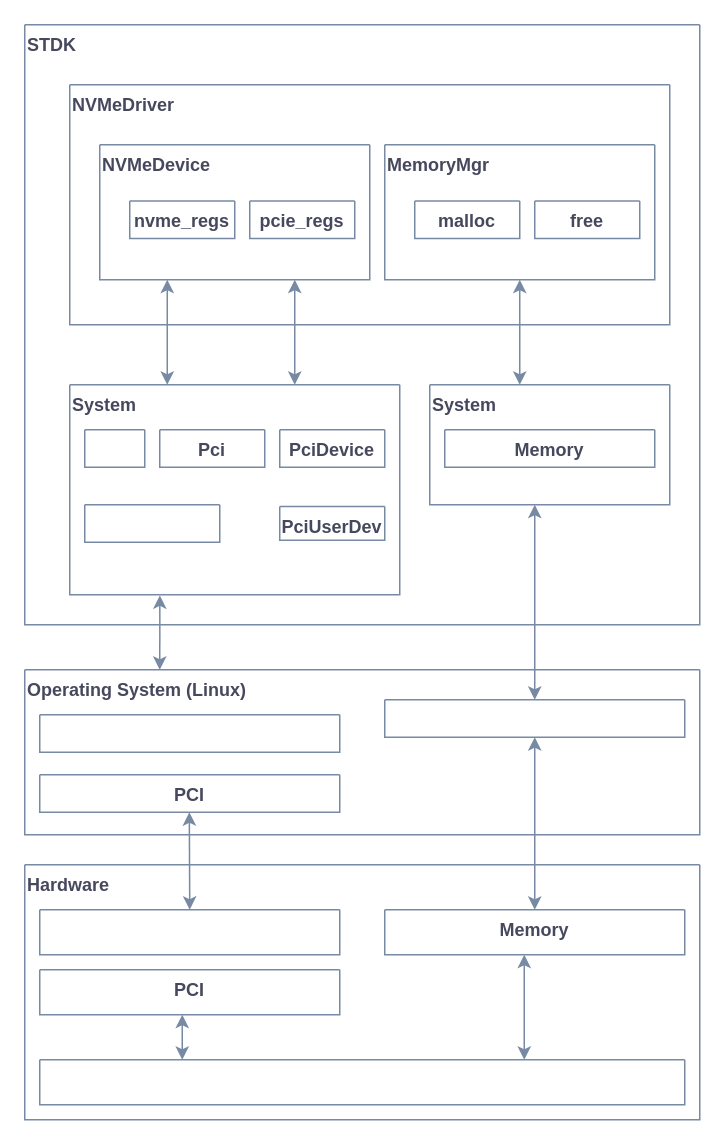
This 725x1145 diagram has some shape labels left out. The centre of each missing label's shape, as x and y in pixels:
"HugePages" belongs at point (534, 717).
"IOMMU" belongs at point (189, 931).
"NVMe Device Hardware" belongs at point (361, 1081).
"PciUserspace" belongs at point (151, 522).
"Reqs" belongs at point (114, 447).
"VFIO" belongs at point (189, 732).
